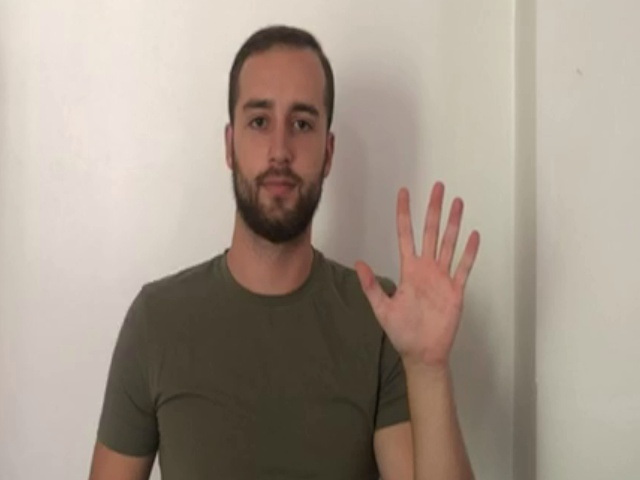Pet i Sedumnaeset: (351, 178, 487, 369)
